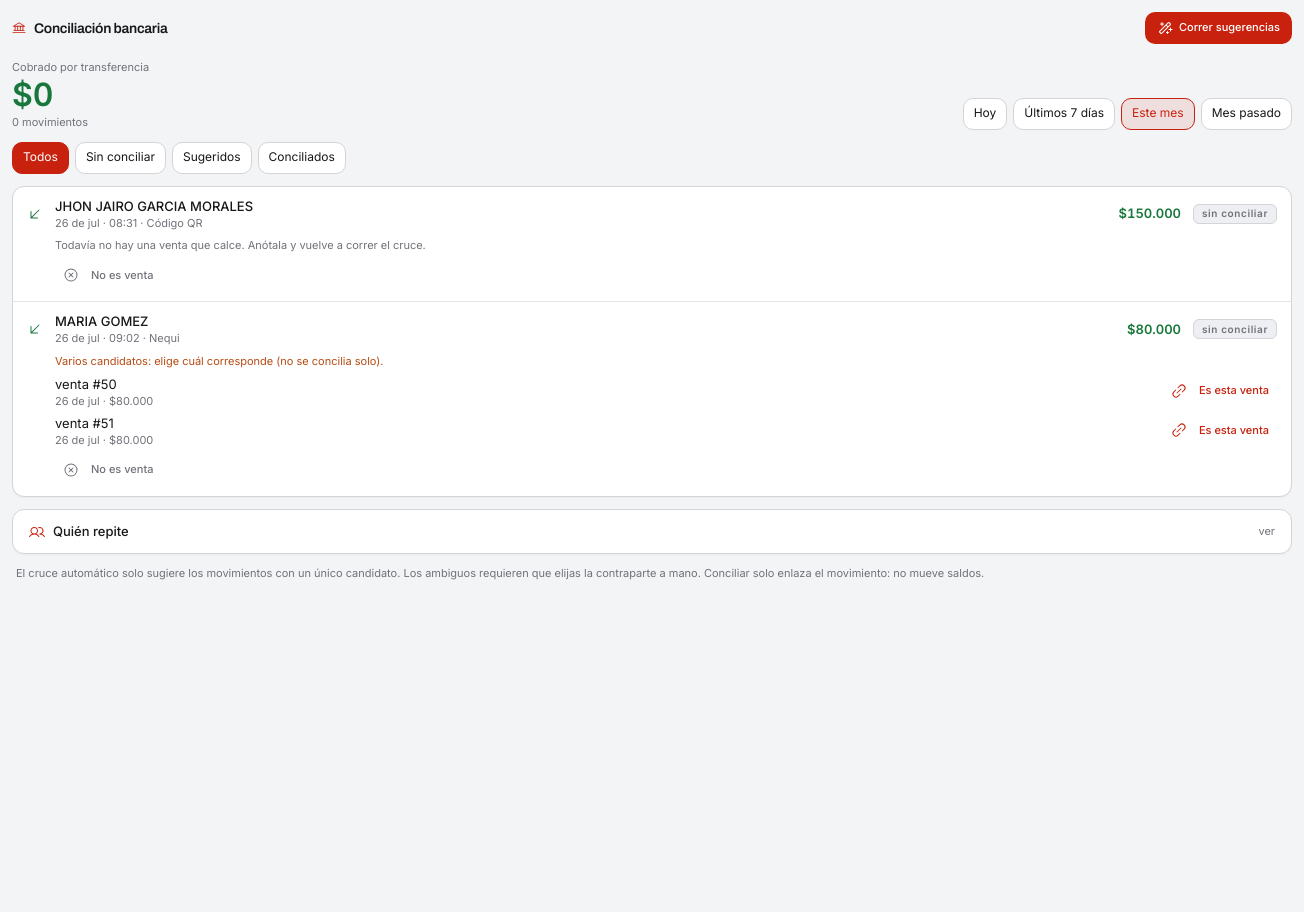
it: TabConciliacion — match de mixtas y fiados › "Quién repite" está colapsado y no se pide hasta abrirlo
Expected: the text "JHON JAIRO GARCIA MORALES" is shown, [55,198,253,214]
Click the button "Quién repite ver" at (91, 531), box [13,510,1291,553]
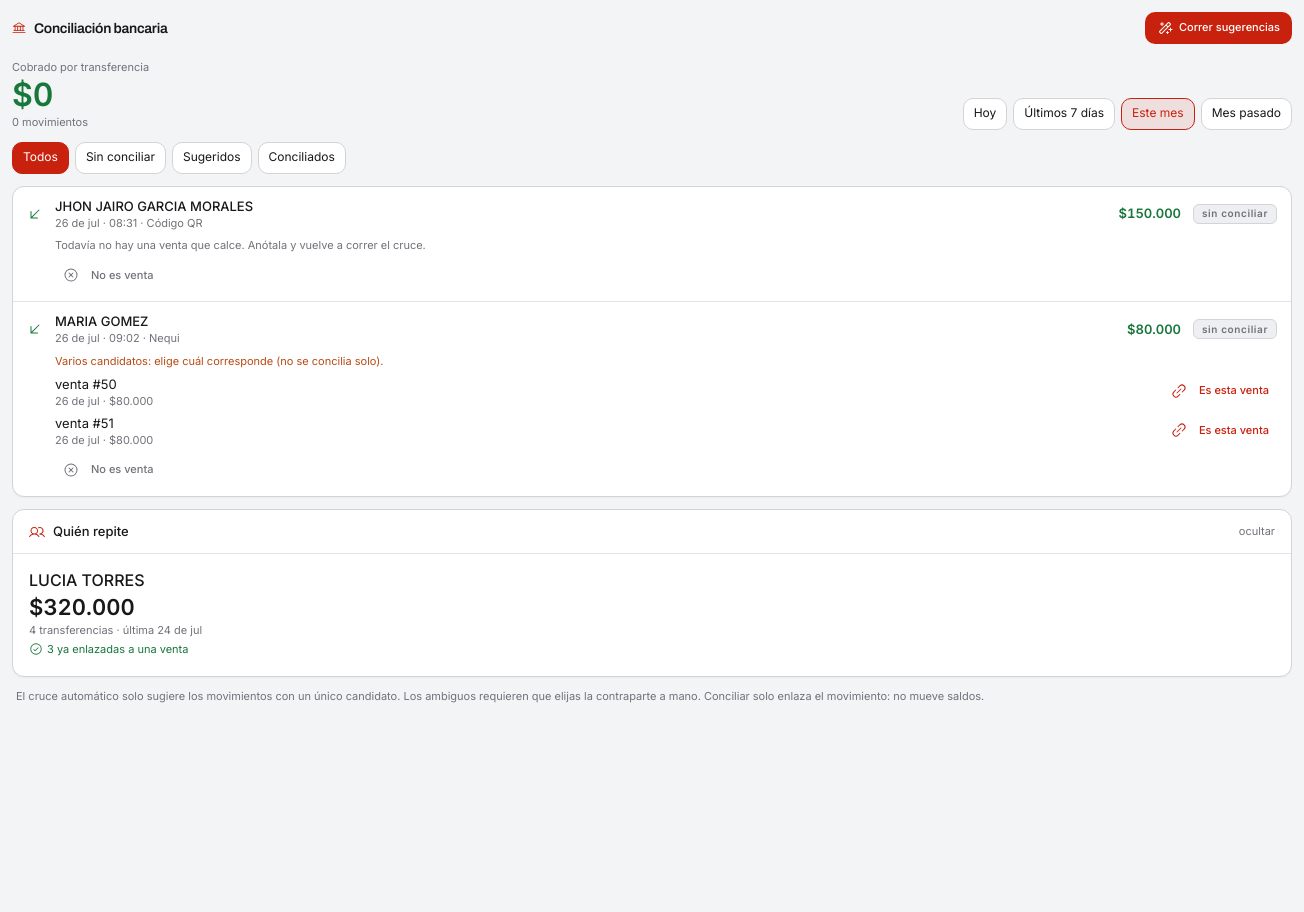
Result: the text "LUCIA TORRES" is shown at [29,570,144,590]
Result: the text "4 transferencias · última 24 de jul" is shown at [29,624,202,638]
